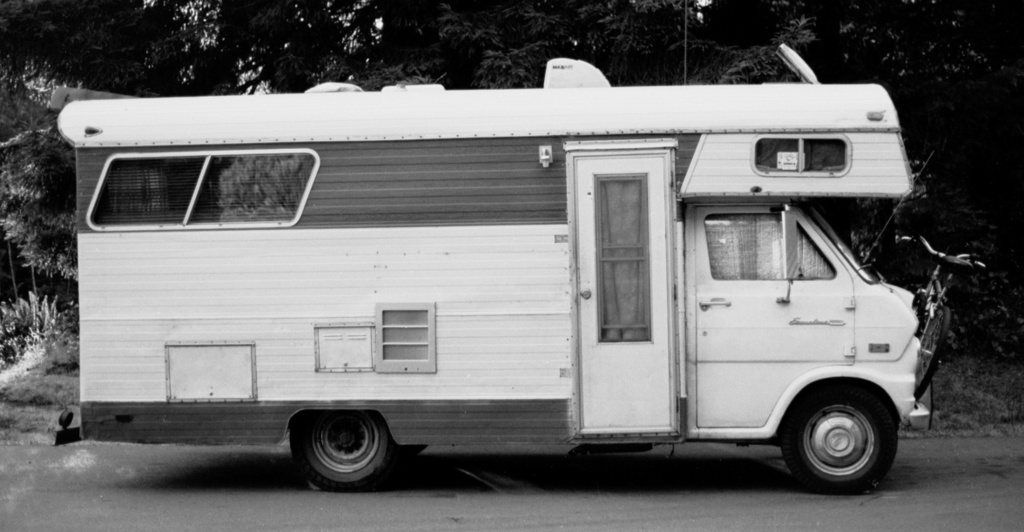Tree: (0, 0, 1023, 356)
